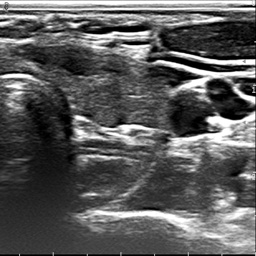mass: (84, 76, 121, 123)
